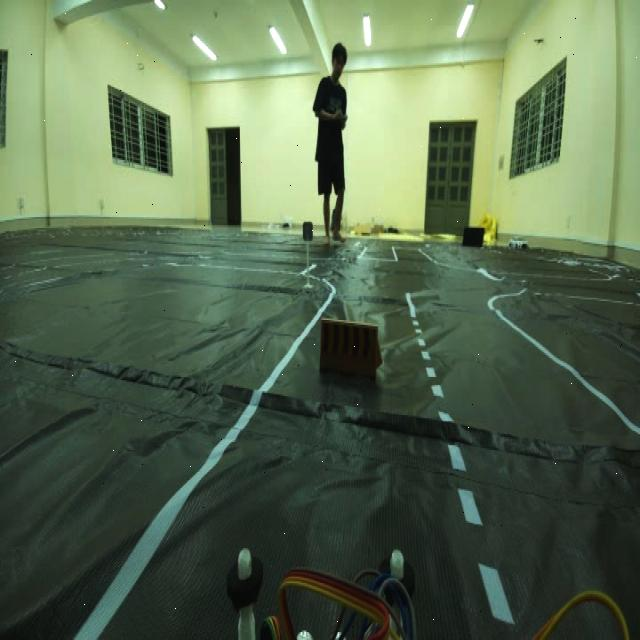roadblock: (316, 312, 388, 395)
